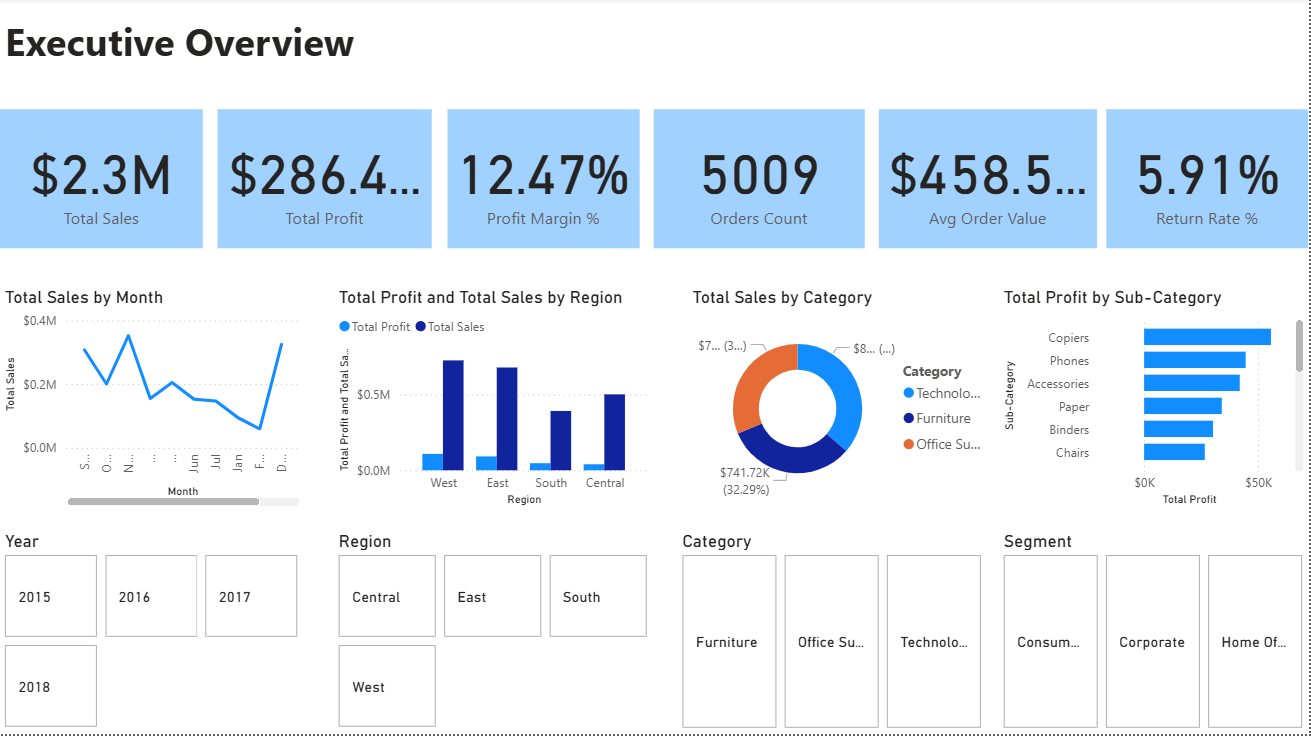

The page's visual inventory and layout, read from the dashboard file:
{"tool":"powerbi","page":{"name":"Executive Overview","canvas":[1280,720],"ordinal":0},"visuals":[{"type":"card","fields":{"Values":["Orders.Total Sales"]},"box":[0,108.6,198.8,135.8],"z":0},{"type":"card","fields":{"Values":["Orders.Total Profit"]},"box":[212.3,108.6,209.9,135.8],"z":1000},{"type":"card","fields":{"Values":["Orders.Profit Margin %"]},"box":[438.3,108.6,187.7,135.8],"z":2000},{"type":"card","fields":{"Values":["Orders.Orders Count"]},"box":[639.5,108.6,206.2,135.8],"z":3000},{"type":"card","fields":{"Values":["Orders.Avg Order Value"]},"box":[859.3,108.6,213.6,135.8],"z":4000},{"type":"card","fields":{"Values":["Orders.Return Rate %"]},"box":[1082.7,108.6,197.5,135.8],"z":5000},{"type":"lineChart","fields":{"Category":["DimDate.Month"],"Y":["Orders.Total Sales"]},"box":[0,282.7,297.8,219.6],"z":6000},{"type":"clusteredColumnChart","fields":{"Category":["People.Region"],"Y":["Orders.Total Profit","Orders.Total Sales"]},"box":[326.6,282.7,312.9,219.6],"z":7000},{"type":"donutChart","fields":{"Category":["Orders.Category"],"Y":["Orders.Total Sales"]},"box":[672.4,282.7,304.6,219.6],"z":8000},{"type":"clusteredBarChart","fields":{"Category":["Orders.Sub-Category"],"Y":["Orders.Total Profit"]},"box":[977,282.7,303.3,219.6],"z":9000},{"type":"advancedSlicerVisual","fields":{"Values":["DimDate.Year"]},"box":[0,521.4,297.8,199],"z":10000},{"type":"advancedSlicerVisual","fields":{"Values":["Orders.Region"]},"box":[326.6,521.4,312.9,199],"z":11000},{"type":"advancedSlicerVisual","fields":{"Values":["Orders.Category"]},"box":[662.8,521.4,304.6,199],"z":12000},{"type":"advancedSlicerVisual","fields":{"Values":["Orders.Segment"]},"box":[977,521.4,303.3,199],"z":13000},{"type":"textbox","box":[0,12.3,1280.3,81],"z":14000}]}

Visuals, with their boxes in screenshot pixels (x1, y1, x2, y2), scaled from the page's 1280x720 canvas onto the 1311x737 screenshot:
card - Orders.Total Sales: {"x1": 0, "y1": 111, "x2": 204, "y2": 250}
card - Orders.Total Profit: {"x1": 217, "y1": 111, "x2": 432, "y2": 250}
card - Orders.Profit Margin %: {"x1": 449, "y1": 111, "x2": 641, "y2": 250}
card - Orders.Orders Count: {"x1": 655, "y1": 111, "x2": 866, "y2": 250}
card - Orders.Avg Order Value: {"x1": 880, "y1": 111, "x2": 1099, "y2": 250}
card - Orders.Return Rate %: {"x1": 1109, "y1": 111, "x2": 1310, "y2": 250}
lineChart - DimDate.Month x Orders.Total Sales: {"x1": 0, "y1": 289, "x2": 305, "y2": 514}
clusteredColumnChart - People.Region x Orders.Total Profit: {"x1": 335, "y1": 289, "x2": 655, "y2": 514}
donutChart - Orders.Category x Orders.Total Sales: {"x1": 689, "y1": 289, "x2": 1001, "y2": 514}
clusteredBarChart - Orders.Sub-Category x Orders.Total Profit: {"x1": 1001, "y1": 289, "x2": 1310, "y2": 514}
advancedSlicerVisual - DimDate.Year: {"x1": 0, "y1": 534, "x2": 305, "y2": 736}
advancedSlicerVisual - Orders.Region: {"x1": 335, "y1": 534, "x2": 655, "y2": 736}
advancedSlicerVisual - Orders.Category: {"x1": 679, "y1": 534, "x2": 991, "y2": 736}
advancedSlicerVisual - Orders.Segment: {"x1": 1001, "y1": 534, "x2": 1310, "y2": 736}
textbox: {"x1": 0, "y1": 13, "x2": 1310, "y2": 96}
